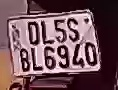0: (85, 41, 96, 69)
4: (71, 44, 85, 68)
5: (52, 17, 69, 44)
6: (42, 46, 57, 70)
9: (56, 43, 70, 70)
B: (18, 47, 30, 72)
D: (25, 19, 41, 47)
L: (39, 20, 55, 45), (30, 47, 44, 71)
S: (66, 18, 81, 44)
